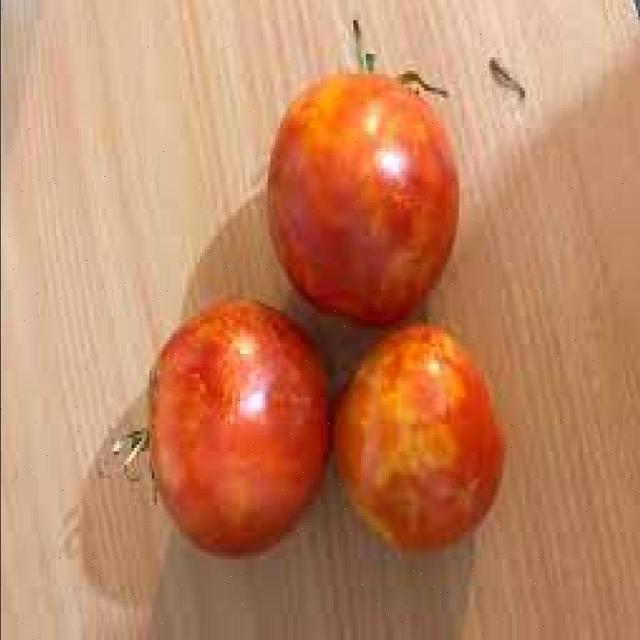Spotted wilt Virus Fruit: (118, 133, 277, 294)
